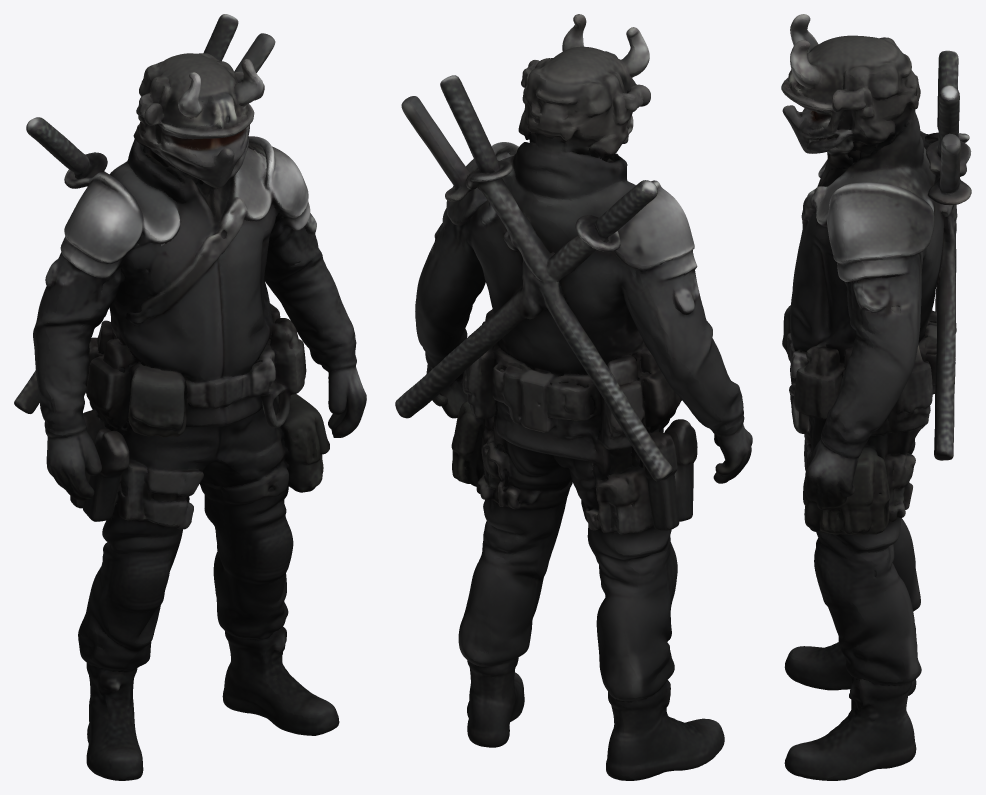
File: char1_tactical_male.glb
3 renders of one model, left to right at view 1: azimuth 30°, elevation 25°; view 2: azimuth 150°, elevation 25°; view 3: azimuth 270°, elevation 25°, orthographic. The views are drawn at different scales.
Visible parts, largest first — view 1: world; view 2: world; view 3: world.
Boxes of the visible parts, x1,y1,x2,y2 form: world: (14,14,366,780); world: (395,14,752,780); world: (781,14,971,780).
Bounding box in the file's own units: 0.8745 × 1.85 × 0.4569.
Materials: 1 (1 with a texture image).
